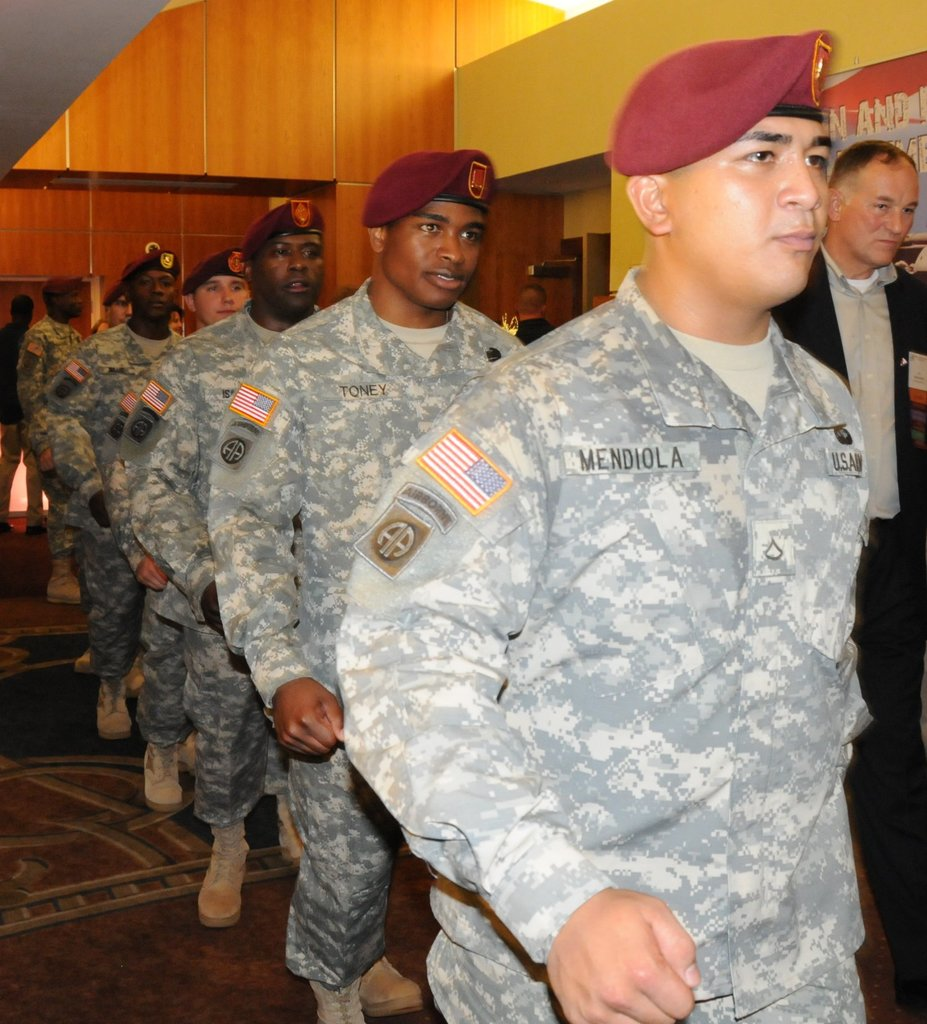face: (258, 223, 324, 309)
